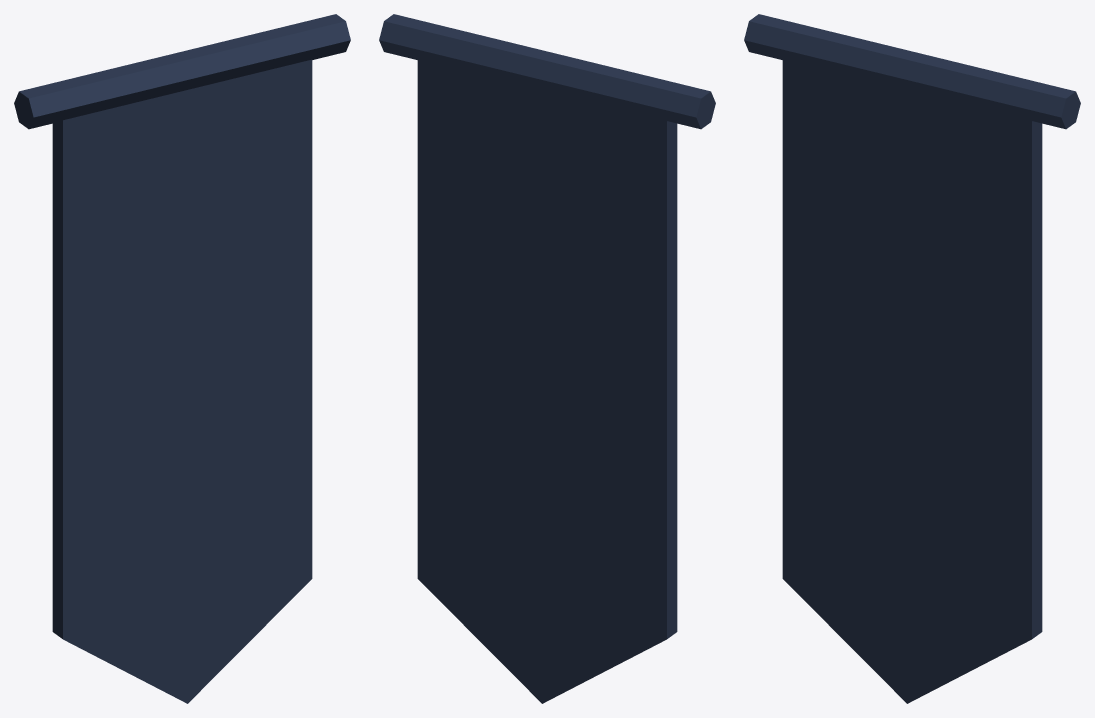
File: banner_wall.fbx
3 views of the same model, side by side, from view 1: azimuth 30°, elevation 25°; view 2: azimuth 150°, elevation 25°; view 3: azimuth 330°, elevation 25° (orthographic).
Parts seen in each view (by area): view 1: banner_wall; view 2: banner_wall; view 3: banner_wall.
Part boxes in pixels (bbox=[...]): banner_wall: bbox=[14, 14, 350, 703]; banner_wall: bbox=[379, 14, 715, 703]; banner_wall: bbox=[744, 14, 1080, 703].
Size of the model in its own units: 280 by 543 by 30.
